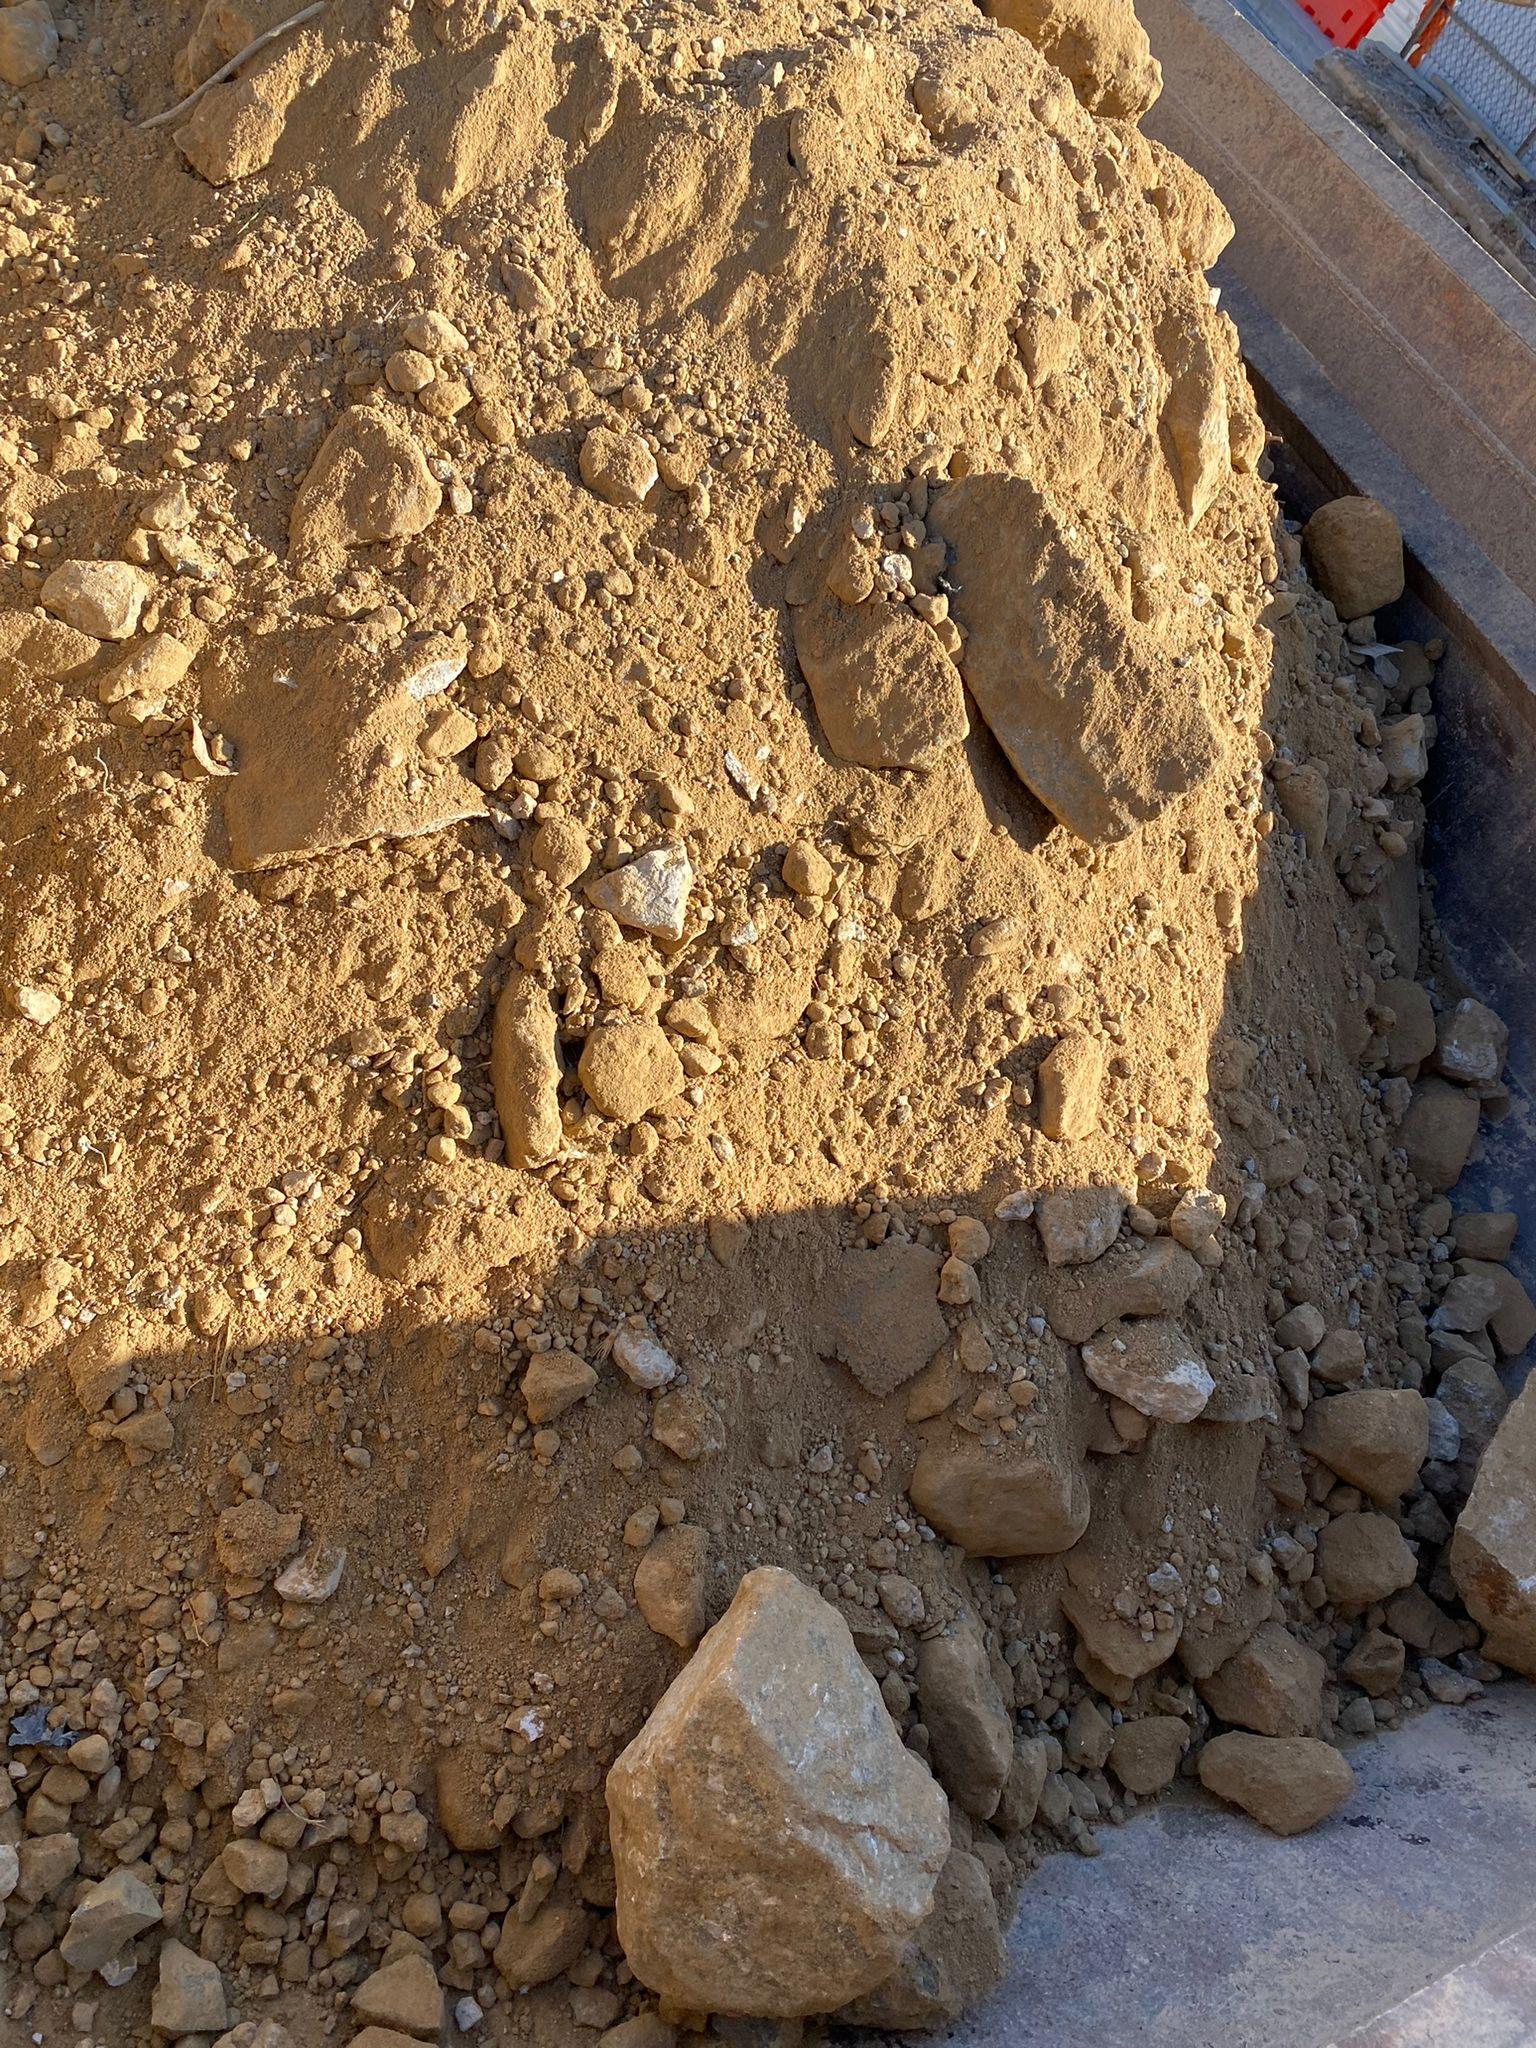dry: (0, 0, 1530, 2040)
